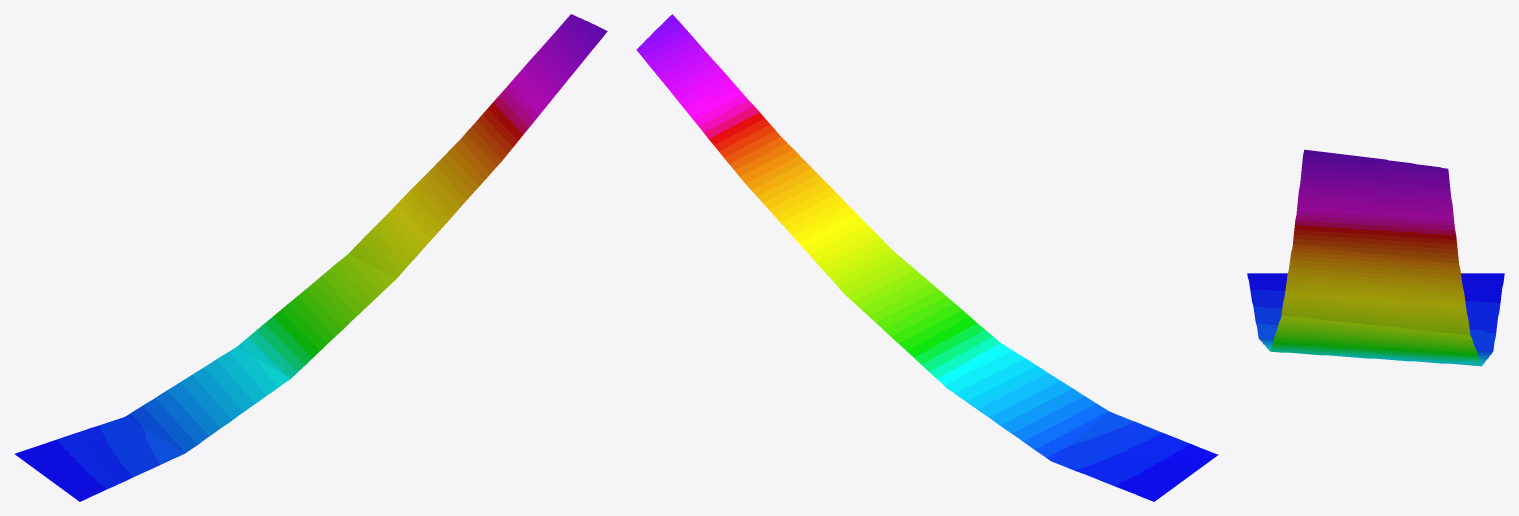
3 views of the same model, side by side, from view 1: azimuth 30°, elevation 25°; view 2: azimuth 150°, elevation 25°; view 3: azimuth 270°, elevation 25° (orthographic). The views are drawn at different scales.
Visible parts, largest first — view 1: Elements; view 2: Elements; view 3: Elements.
Boxes of the visible parts, x1,y1,x2,y2 form: Elements: (14,14,607,501); Elements: (636,14,1218,501); Elements: (1247,149,1504,366).
Bounding box in the file's own units: 1 × 0.5774 × 0.2096.
Materials: 1 (1 with a texture image).
